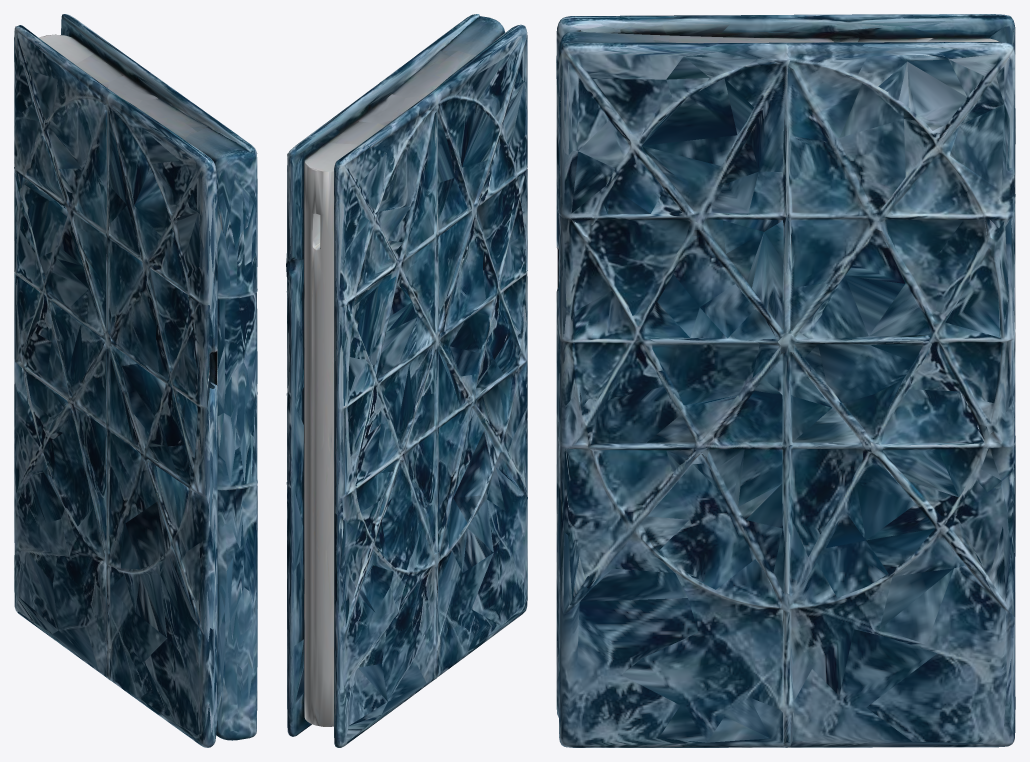
Rendered from ice.glb.
3 views of the same model, side by side, from view 1: azimuth 30°, elevation 25°; view 2: azimuth 150°, elevation 25°; view 3: azimuth 270°, elevation 25° (orthographic). The views are drawn at different scales.
Visible parts, largest first — view 1: tripo_node_ab74ac51-b2e0-448e-891c-f9587059a3f5; view 2: tripo_node_ab74ac51-b2e0-448e-891c-f9587059a3f5; view 3: tripo_node_ab74ac51-b2e0-448e-891c-f9587059a3f5.
Part boxes in pixels (bbox=[...]): tripo_node_ab74ac51-b2e0-448e-891c-f9587059a3f5: bbox=[14, 14, 257, 747]; tripo_node_ab74ac51-b2e0-448e-891c-f9587059a3f5: bbox=[286, 14, 527, 747]; tripo_node_ab74ac51-b2e0-448e-891c-f9587059a3f5: bbox=[556, 14, 1015, 747].
Bounding box in the file's own units: 0.1071 × 0.9803 × 0.5787.
Materials: 1 (1 with a texture image).
